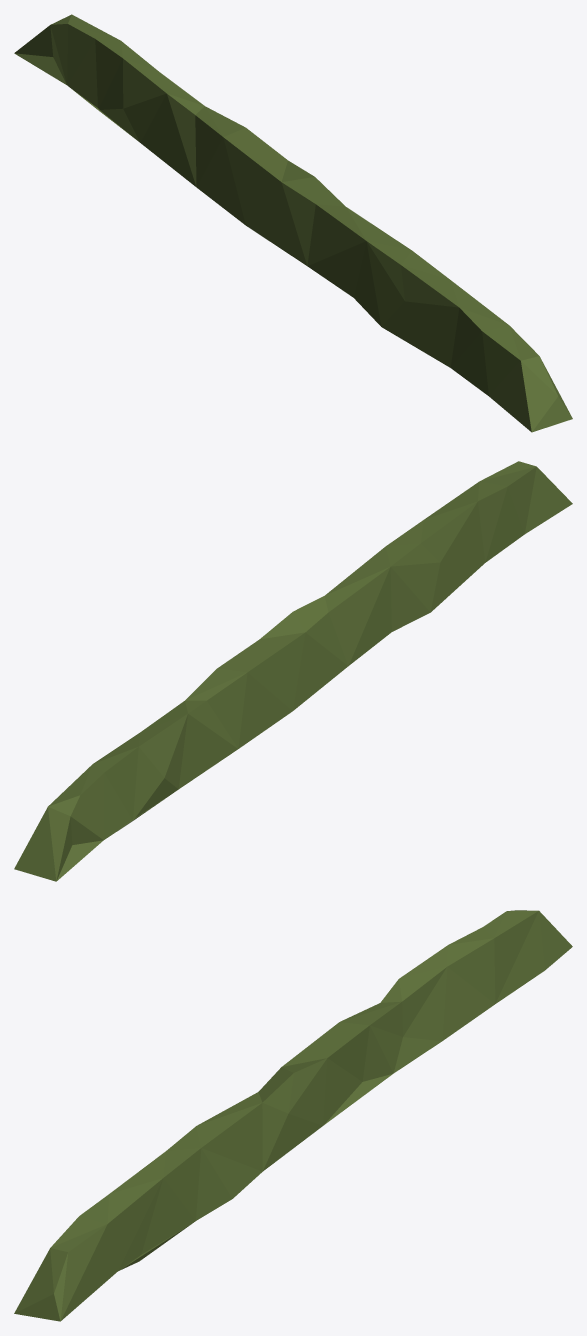
The model's file is SM_Envr_Nature_Farm_Plant_Generic_Row.fbx.
3 renders of one model, top to bottom at view 1: azimuth 30°, elevation 25°; view 2: azimuth 150°, elevation 25°; view 3: azimuth 330°, elevation 25°, orthographic.
Visible parts, largest first — view 1: SM_Envr_Nature_Farm_Plant_Generic_Row; view 2: SM_Envr_Nature_Farm_Plant_Generic_Row; view 3: SM_Envr_Nature_Farm_Plant_Generic_Row.
Boxes of the visible parts, box(x1,y1,x2,y2) form: SM_Envr_Nature_Farm_Plant_Generic_Row: box(14, 14, 572, 432); SM_Envr_Nature_Farm_Plant_Generic_Row: box(14, 461, 572, 881); SM_Envr_Nature_Farm_Plant_Generic_Row: box(14, 910, 572, 1321).
Bounding box in the file's own units: 28.24 × 35.57 × 492.
